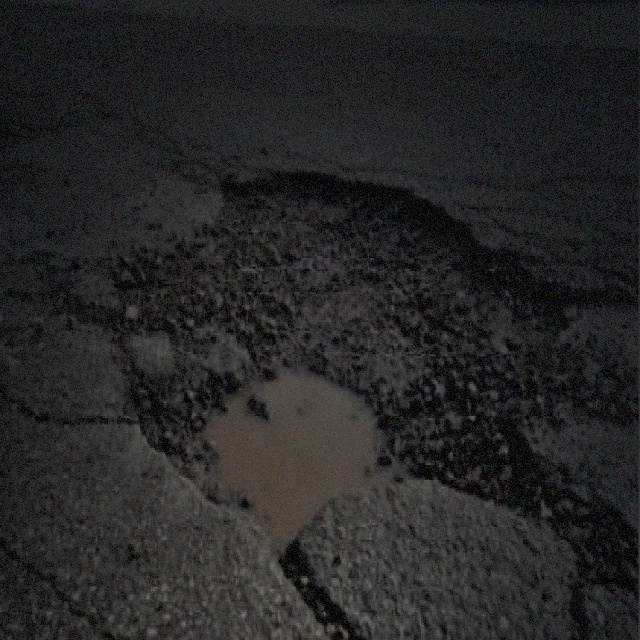pothole: (105, 160, 579, 563)
